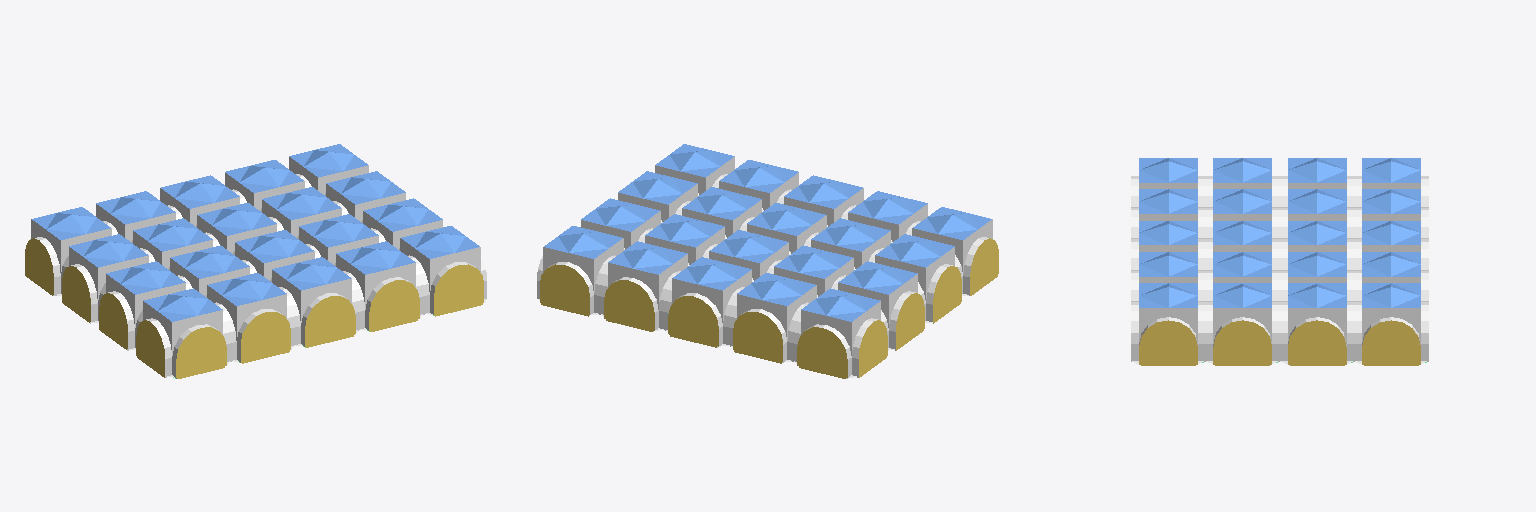
File: vault.obj
The picture shows the model from 3 angles: view 1: azimuth 30°, elevation 25°; view 2: azimuth 150°, elevation 25°; view 3: azimuth 270°, elevation 25°; orthographic projection.
Visible parts, largest first — view 1: Mesh62 wall14 Model, Mesh57 wall9 Model, Mesh56 wall8 Model, Mesh58 wall10 Model, Mesh80 wall16 Model, Mesh47 pillar47 valut12 Model, Mesh43 pillar43 valut11 Model, Mesh39 pillar39 valut10 Model, Mesh83 pillar67 valut17 Model, Mesh65 pillar51 valut13 Model, Mesh35 pillar35 valut9 Model, Mesh3 pillar3 valut1 Model (+28 smaller); view 2: Mesh71 wall15 Model, Mesh59 wall11 Model, Mesh61 wall13 Model, Mesh60 wall12 Model, Mesh89 wall17 Model, Mesh2 pillar2 valut1 Model, Mesh6 pillar6 valut2 Model, Mesh10 pillar10 valut3 Model, Mesh86 pillar70 valut18 Model, Mesh68 pillar54 valut14 Model, Mesh18 pillar18 valut5 Model, Mesh46 pillar46 valut12 Model (+28 smaller); view 3: Mesh53 wall5 Model, Mesh55 wall7 Model, Mesh52 wall4 Model, Mesh54 wall6 Model, Mesh84 pillar68 valut17 Model, Mesh85 pillar69 valut18 Model, Mesh81 pillar65 valut17 Model, Mesh88 pillar72 valut18 Model, Mesh93 pillar76 valut19 Model, Mesh94 pillar77 valut20 Model, Mesh90 pillar73 valut19 Model, Mesh97 pillar80 valut20 Model (+28 smaller).
Part boxes in pixels (x1,y1,x2,y2): Mesh62 wall14 Model: (369, 280, 419, 331); Mesh57 wall9 Model: (305, 296, 355, 347); Mesh56 wall8 Model: (176, 327, 226, 378); Mesh58 wall10 Model: (241, 312, 290, 363); Mesh80 wall16 Model: (434, 264, 483, 316); Mesh47 pillar47 valut12 Model: (151, 297, 200, 378); Mesh43 pillar43 valut11 Model: (218, 281, 264, 362); Mesh39 pillar39 valut10 Model: (283, 265, 329, 347); Mesh83 pillar67 valut17 Model: (411, 234, 458, 315); Mesh65 pillar51 valut13 Model: (347, 250, 394, 331); Mesh35 pillar35 valut9 Model: (114, 269, 160, 350); Mesh3 pillar3 valut1 Model: (40, 215, 85, 295); Mesh71 wall15 Model: (604, 280, 654, 331); Mesh59 wall11 Model: (668, 296, 718, 347); Mesh61 wall13 Model: (797, 327, 847, 378); Mesh60 wall12 Model: (733, 312, 782, 363); Mesh89 wall17 Model: (540, 264, 589, 316); Mesh2 pillar2 valut1 Model: (823, 297, 872, 378); Mesh6 pillar6 valut2 Model: (759, 281, 805, 362); Mesh10 pillar10 valut3 Model: (694, 265, 740, 347); Mesh86 pillar70 valut18 Model: (565, 234, 612, 315); Mesh68 pillar54 valut14 Model: (629, 250, 676, 331); Mesh18 pillar18 valut5 Model: (863, 269, 909, 350); Mesh46 pillar46 valut12 Model: (938, 215, 983, 295); Mesh53 wall5 Model: (1288, 320, 1346, 365); Mesh55 wall7 Model: (1213, 320, 1271, 365); Mesh52 wall4 Model: (1362, 320, 1420, 365); Mesh54 wall6 Model: (1139, 320, 1197, 365); Mesh84 pillar68 valut17 Model: (1131, 287, 1168, 363); Mesh85 pillar69 valut18 Model: (1391, 287, 1428, 363); Mesh81 pillar65 valut17 Model: (1169, 287, 1205, 363); Mesh88 pillar72 valut18 Model: (1354, 287, 1390, 363); Mesh93 pillar76 valut19 Model: (1280, 287, 1316, 364); Mesh94 pillar77 valut20 Model: (1243, 287, 1279, 363); Mesh90 pillar73 valut19 Model: (1317, 287, 1353, 363); Mesh97 pillar80 valut20 Model: (1206, 287, 1242, 363).
Bounding box in the file's own units: 19 × 3.6 × 15.2.